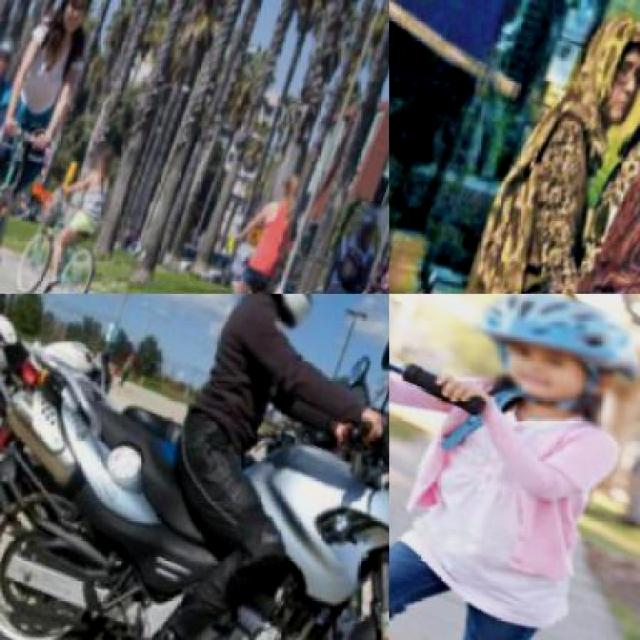With Helmet: (444, 294, 638, 441), (209, 294, 366, 344), (40, 0, 106, 42), (343, 194, 382, 249), (0, 25, 22, 86)
Without Helmet: (552, 0, 638, 138), (267, 157, 305, 208), (81, 138, 117, 182)
